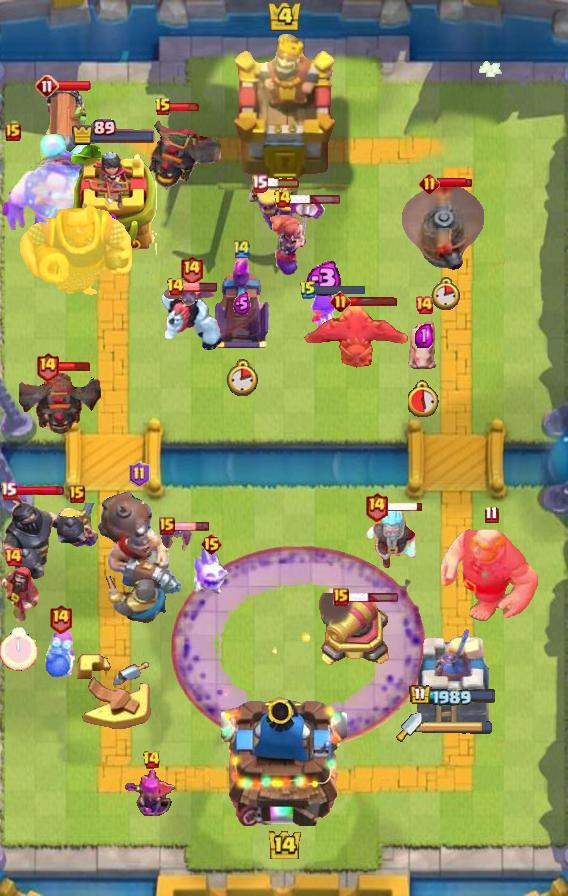archer-evolution: (136, 106, 222, 192), (19, 370, 105, 436)
arrows: (245, 180, 297, 230), (56, 504, 100, 549)
balloon: (440, 526, 542, 624)
bar: (414, 623, 492, 731)
barbarian-barrel: (163, 285, 215, 307), (159, 523, 193, 551)
battle-healer: (40, 82, 90, 170)
bowler: (0, 565, 42, 623)
dark-prince: (400, 187, 490, 273)
electro-spirit: (301, 261, 343, 295), (415, 324, 433, 348), (233, 293, 251, 316)
elixir: (0, 627, 38, 671), (226, 359, 258, 397), (408, 379, 440, 416), (431, 278, 460, 310)
emote: (15, 483, 66, 497), (314, 284, 366, 297), (289, 194, 341, 205), (347, 593, 399, 604), (348, 297, 398, 308), (56, 80, 92, 92), (437, 177, 473, 189), (265, 177, 301, 189), (182, 281, 218, 293), (388, 500, 425, 511), (173, 521, 210, 532), (57, 360, 91, 371), (170, 102, 202, 112)
evolution-symbol: (125, 769, 177, 829)
firecracker: (107, 576, 170, 624)
giant: (407, 320, 441, 376)
giant-skeleton: (18, 198, 134, 298)
goblin: (305, 291, 338, 331)
ice-golem: (43, 629, 77, 679)
ice-spirit-evolution-symbol: (212, 258, 272, 350)
king-tower: (221, 690, 347, 826), (231, 35, 337, 182)
king-tower-bar: (422, 720, 494, 734)
little-prince: (0, 133, 112, 247)
mirror: (191, 545, 231, 597)
mortar: (363, 504, 421, 572)
mother-witch: (303, 302, 411, 374)
queen-tower: (71, 144, 157, 255)
rage: (159, 287, 223, 353)
rocket: (170, 545, 426, 749)
royal-guardian: (0, 488, 92, 584)
royal-recruit: (316, 593, 394, 669)
selected: (71, 118, 157, 145), (409, 684, 497, 708)
tesla-evolution: (270, 198, 327, 278)
text: (179, 254, 204, 285), (364, 490, 389, 521), (48, 602, 73, 633), (36, 350, 60, 381), (35, 74, 59, 98), (200, 532, 223, 556), (130, 461, 151, 487), (419, 173, 440, 195), (330, 292, 351, 313), (232, 238, 252, 259), (272, 189, 292, 209), (414, 295, 434, 315), (3, 547, 23, 567), (166, 277, 185, 297), (143, 750, 162, 770), (154, 97, 172, 117), (299, 280, 317, 300), (251, 175, 268, 193), (5, 123, 21, 141), (0, 481, 16, 499), (69, 485, 85, 503), (159, 517, 175, 535), (333, 588, 349, 606), (485, 505, 499, 524)
wizard: (95, 490, 183, 598)
